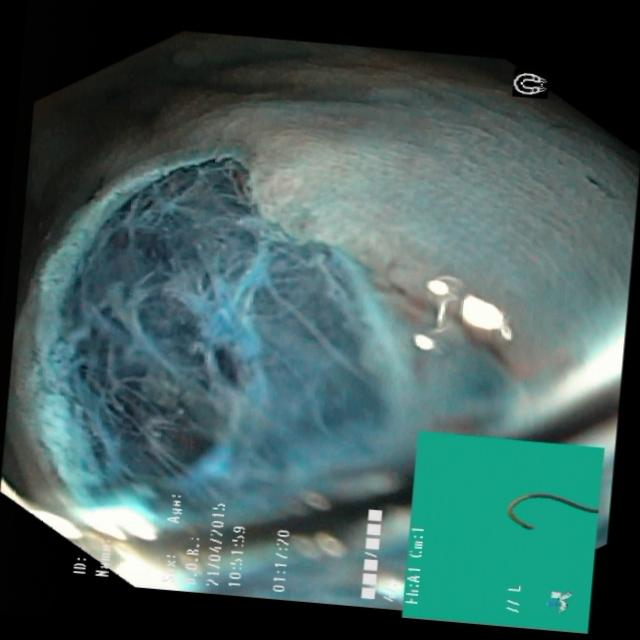dyed-resection-margins: (11, 118, 314, 541)
